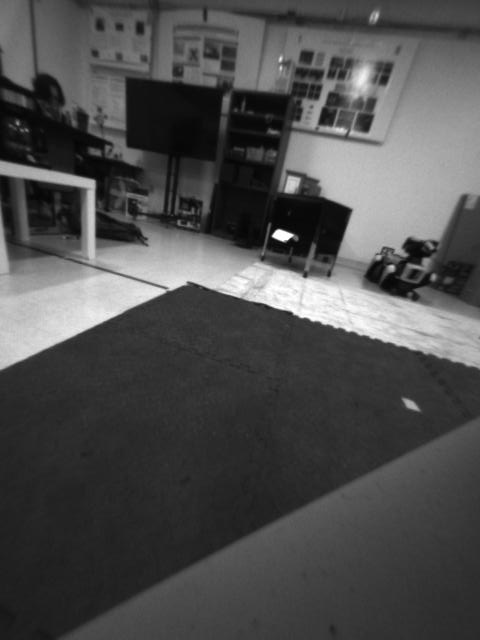coffee_pot: (3, 83, 42, 169)
